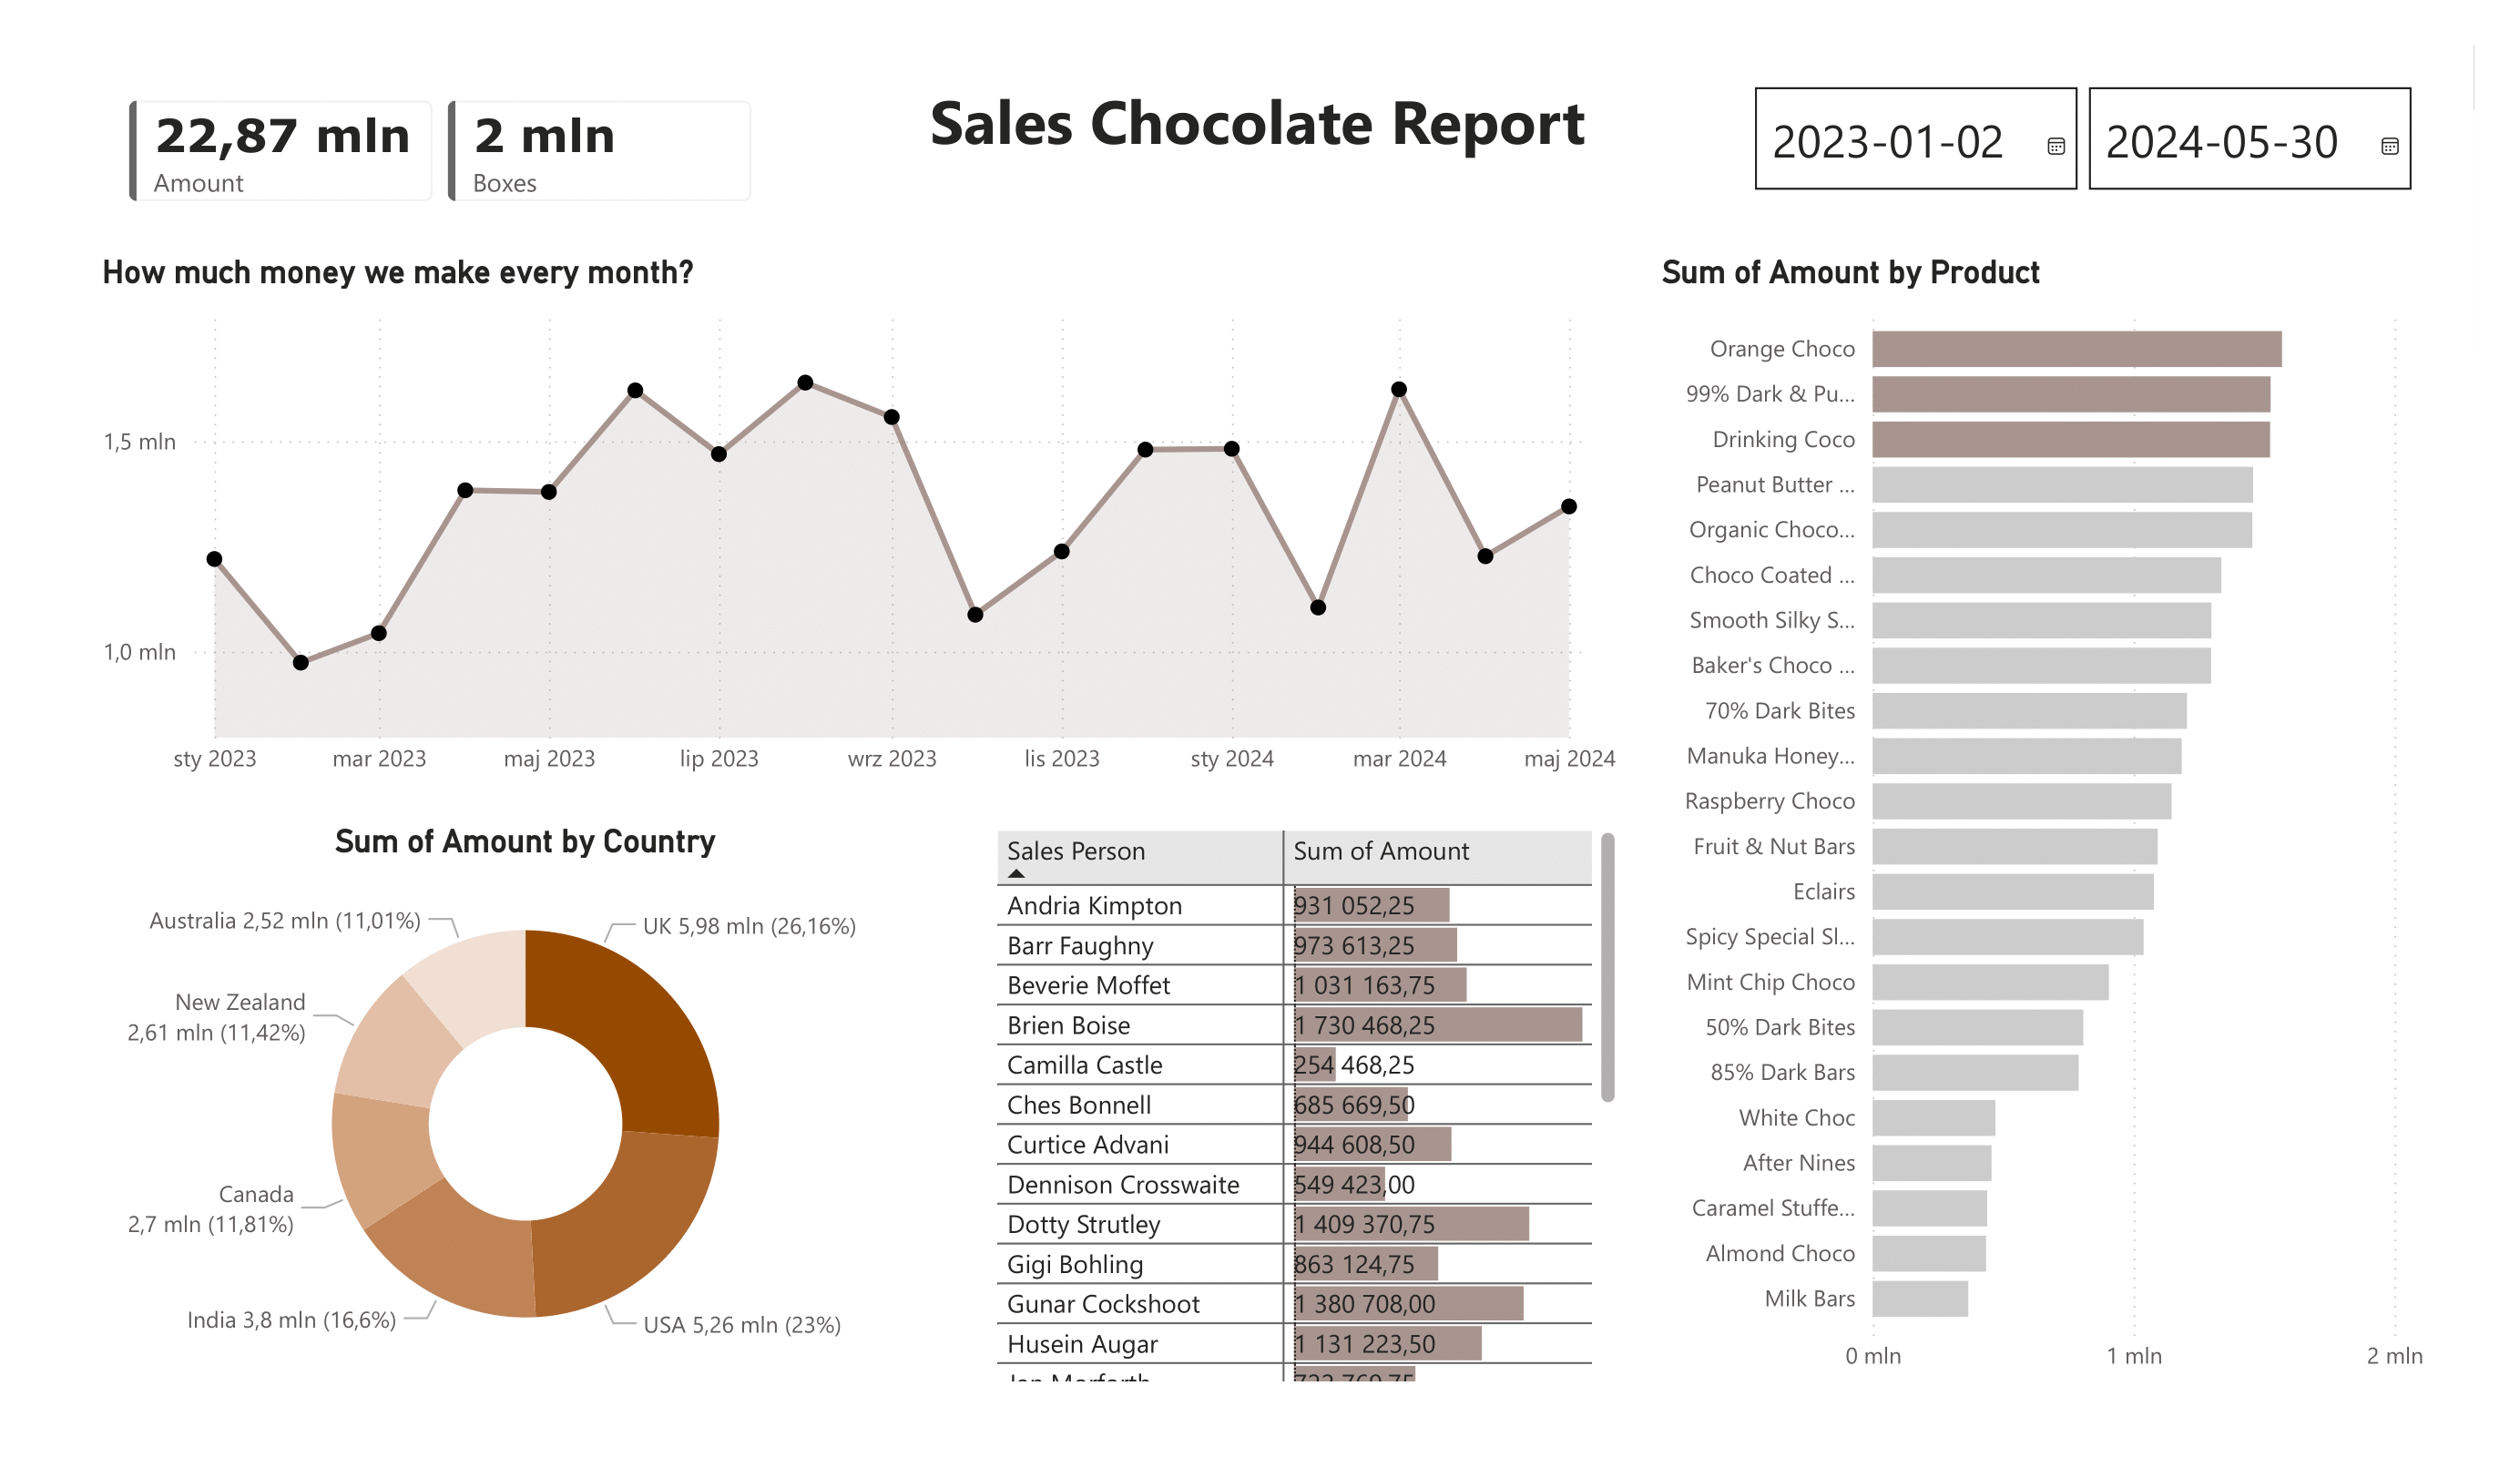

The page's visual inventory and layout, read from the dashboard file:
{"tool":"powerbi","page":{"name":"Strona 2","canvas":[1280,720],"ordinal":0},"visuals":[{"type":"lineChart","title":"How much money we make every month?","fields":{"Y":["data.Amount"],"Category":["data.Date.Odmiana.Hierarchia dat.Rok","data.Date.Odmiana.Hierarchia dat.Kwartał","data.Date.Odmiana.Hierarchia dat.Miesiąc","data.Date.Odmiana.Hierarchia dat.Dzień"]},"box":[24.9,109.5,808.6,284.9],"z":0},{"type":"donutChart","title":"Sum of Amount by Country","fields":{"Y":["data.Amount"],"Category":["data.Country"]},"box":[24.9,409.3,456.5,299.8],"z":1000},{"type":"tableEx","fields":{"Values":["data.Sales Person","data.Amount"]},"box":[496.3,409.3,337.1,299.8],"z":2000},{"type":"barChart","title":"Sum of Amount by Product","fields":{"Category":["data.Product"],"Y":["data.Amount"]},"box":[847.1,109.5,410.5,599.6],"z":3000},{"type":"cardVisual","fields":{"Data":["data.Amount","data.Boxes"]},"box":[27.4,12.3,363.6,87.8],"z":4000},{"type":"slicer","fields":{"Values":["data.Date"]},"box":[888.2,12.4,369.5,75.9],"z":5000},{"type":"textbox","box":[455.3,12.4,367,61],"z":6000}]}

Visuals, with their boxes on the page's 1280x720 design canvas (x1, y1, x2, y2). These are canvas units, not pixel positions in the 2520x1457 screenshot, which may show the page scaled, cropped or inside an application window:
"How much money we make every month?" lineChart: 25:110:834:394
"Sum of Amount by Country" donutChart: 25:409:481:709
tableEx - data.Sales Person x data.Amount: 496:409:833:709
"Sum of Amount by Product" barChart: 847:110:1258:709
cardVisual - data.Amount x data.Boxes: 27:12:391:100
slicer - data.Date: 888:12:1258:88
textbox: 455:12:822:73
